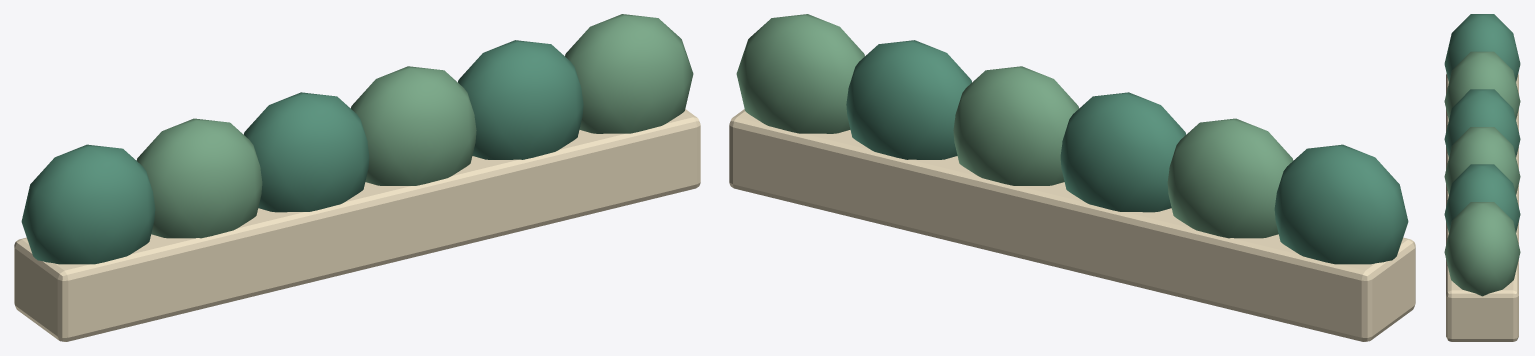
The model's file is tpe5_hedge_7m.glb.
The picture shows the model from 3 angles, left to right: view 1: azimuth 30°, elevation 25°; view 2: azimuth 150°, elevation 25°; view 3: azimuth 270°, elevation 25°; orthographic projection. The views are drawn at different scales.
Visible parts, largest first — view 1: tpe5_hedge_7m__tpe5-street-ivory, tpe5_hedge_7m__tpe5-street-jade, tpe5_hedge_7m__tpe5-leaf-sage; view 2: tpe5_hedge_7m__tpe5-street-ivory, tpe5_hedge_7m__tpe5-street-jade, tpe5_hedge_7m__tpe5-leaf-sage; view 3: tpe5_hedge_7m__tpe5-leaf-sage, tpe5_hedge_7m__tpe5-street-jade, tpe5_hedge_7m__tpe5-street-ivory.
Part boxes in pixels (x1,y1,x2,y2): tpe5_hedge_7m__tpe5-street-ivory: (14, 109, 700, 341); tpe5_hedge_7m__tpe5-street-jade: (21, 40, 583, 264); tpe5_hedge_7m__tpe5-leaf-sage: (136, 14, 693, 238); tpe5_hedge_7m__tpe5-street-ivory: (729, 109, 1415, 341); tpe5_hedge_7m__tpe5-street-jade: (846, 40, 1408, 264); tpe5_hedge_7m__tpe5-leaf-sage: (736, 14, 1293, 238); tpe5_hedge_7m__tpe5-leaf-sage: (1444, 51, 1520, 296); tpe5_hedge_7m__tpe5-street-jade: (1444, 14, 1520, 232); tpe5_hedge_7m__tpe5-street-ivory: (1446, 74, 1518, 341).
Size of the model in its own units: 6.74 by 1.65 by 0.94.
